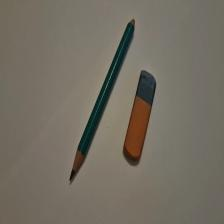eraser: (124, 70, 157, 161)
pencil: (70, 19, 136, 182)
